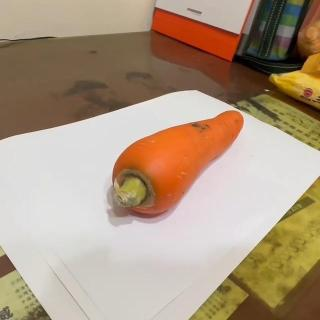carrot: (108, 109, 244, 217)
